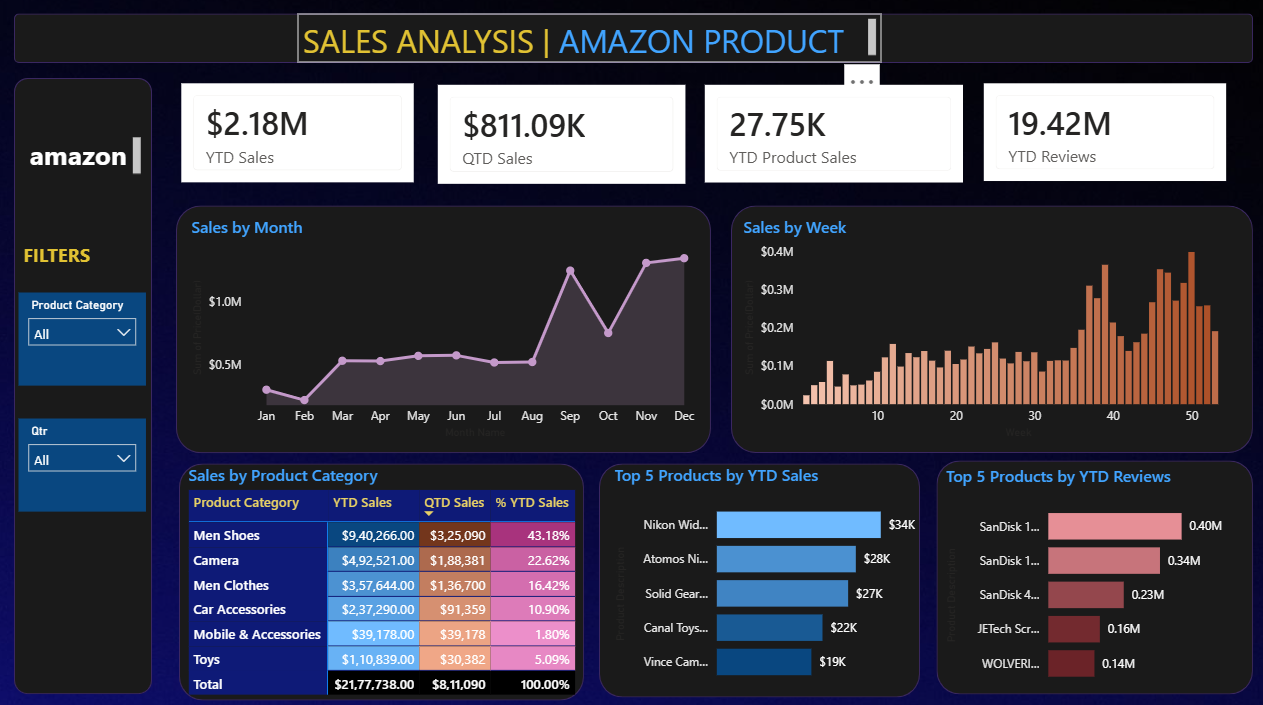

Layout of this report page (visuals, bound fields, positions):
{"tool":"powerbi","page":{"name":"Page 1","canvas":[1280,720],"ordinal":0},"visuals":[{"type":"shape","box":[15.1,16.7,1250.7,50],"z":0},{"type":"cardVisual","fields":{"Data":["Amazon_Data.YTD Sales"]},"box":[178.7,81.9,245.3,110.5],"z":0,"group":"g1"},{"type":"textbox","box":[301.3,16.7,589,50],"z":1000},{"type":"cardVisual","fields":{"Data":["Amazon_Data.QTD Sales"]},"box":[437.7,83.4,260.4,110.5],"z":1000,"group":"g1"},{"type":"shape","box":[15.1,81.8,139.3,622],"z":2000},{"type":"cardVisual","fields":{"Data":["Amazon_Data.YTD Product Sales"]},"box":[707.6,83.8,271,109],"z":2000,"group":"g1"},{"type":"group","id":"g1","title":"Group 1","box":[178.7,81.8,1066,112.1],"z":3000},{"type":"cardVisual","fields":{"Data":["Amazon_Data.YTD Reviews"]},"box":[989.2,81.8,255.9,109],"z":3000,"group":"g1"},{"type":"shape","box":[178.7,210.5,540,250],"z":4000},{"type":"areaChart","title":"Sales by Month","fields":{"Category":["Date Table.Month Name"],"Y":["Sum(Amazon_Data.Price(Dollar))"]},"box":[189.3,221.1,522.4,228.6],"z":4001},{"type":"shape","box":[738.9,210.5,526.9,249.8],"z":4002},{"type":"columnChart","title":"Sales by Week","fields":{"Category":["Date Table.Week"],"Y":["Sum(Amazon_Data.Price(Dollar))"]},"box":[746.5,221.1,508.8,228.6],"z":4003},{"type":"shape","box":[181.7,470.9,408.8,239.2],"z":4004},{"type":"pivotTable","title":"Sales by Product Category","fields":{"Rows":["Amazon_Data.Product Category"],"Values":["Amazon_Data.YTD Sales1","Amazon_Data.QTD Sales","Amazon_Data.YTD Sales"]},"box":[186.2,470.9,404.3,239.2],"z":4005},{"type":"shape","box":[605.7,470.9,324,236.2],"z":4006},{"type":"shape","box":[946.4,467.9,319.5,236.2],"z":4007},{"type":"clusteredBarChart","title":"Top 5 Products by YTD Sales ","fields":{"Category":["Amazon_Data.Product Description"],"Y":["Amazon_Data.YTD Sales"]},"box":[616.3,470.9,313.4,233.2],"z":4008},{"type":"clusteredBarChart","title":"Top 5 Products by YTD Reviews","fields":{"Category":["Amazon_Data.Product Description"],"Y":["Amazon_Data.YTD Reviews"]},"box":[950.9,472.4,313.4,233.2],"z":4009},{"type":"slicer","fields":{"Values":["Amazon_Data.Product Category"]},"box":[19.7,298.3,128.7,93.9],"z":4010},{"type":"slicer","fields":{"Values":["Date Table.Qtr"]},"box":[19.7,425.5,128.7,93.9],"z":4011},{"type":"textbox","box":[25.7,136.3,122.7,54.5],"z":4012},{"type":"textbox","box":[19.7,242.3,106,40.9],"z":4013}]}

Visuals, with their boxes in screenshot pixels (x1, y1, x2, y2), scaled from the page's 1280x720 canvas onto the 1263x705 screenshot:
shape: [15,16,1249,65]
cardVisual - Amazon_Data.YTD Sales: [176,80,418,188]
textbox: [297,16,878,65]
cardVisual - Amazon_Data.QTD Sales: [432,82,689,190]
shape: [15,80,152,689]
cardVisual - Amazon_Data.YTD Product Sales: [698,82,966,189]
"Group 1" group: [176,80,1228,190]
cardVisual - Amazon_Data.YTD Reviews: [976,80,1229,187]
shape: [176,206,709,451]
"Sales by Month" areaChart: [187,216,702,440]
shape: [729,206,1249,451]
"Sales by Week" columnChart: [737,216,1239,440]
shape: [179,461,583,695]
"Sales by Product Category" pivotTable: [184,461,583,695]
shape: [598,461,917,692]
shape: [934,458,1249,689]
"Top 5 Products by YTD Sales " clusteredBarChart: [608,461,917,689]
"Top 5 Products by YTD Reviews" clusteredBarChart: [938,463,1248,691]
slicer - Amazon_Data.Product Category: [19,292,146,384]
slicer - Date Table.Qtr: [19,417,146,509]
textbox: [25,133,146,187]
textbox: [19,237,124,277]
